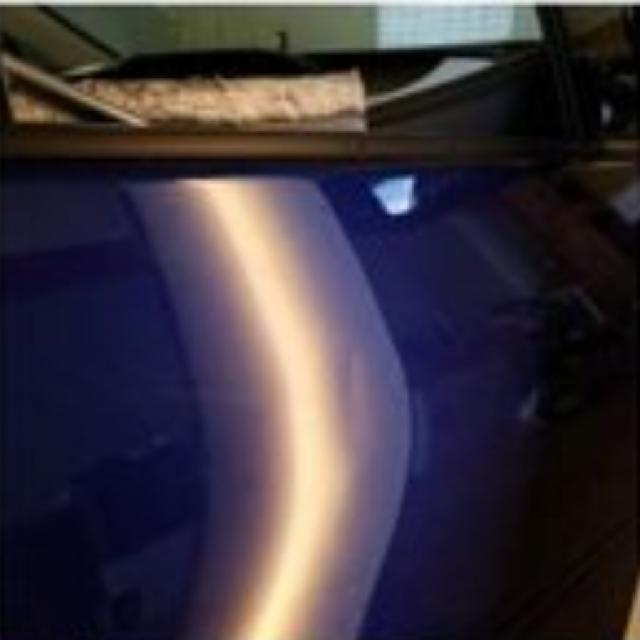dents: (314, 330, 436, 484)
